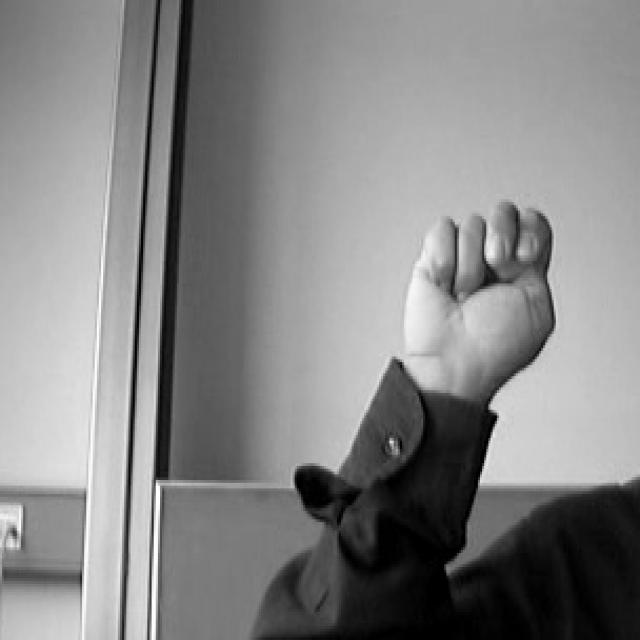N: (374, 159, 583, 413)
